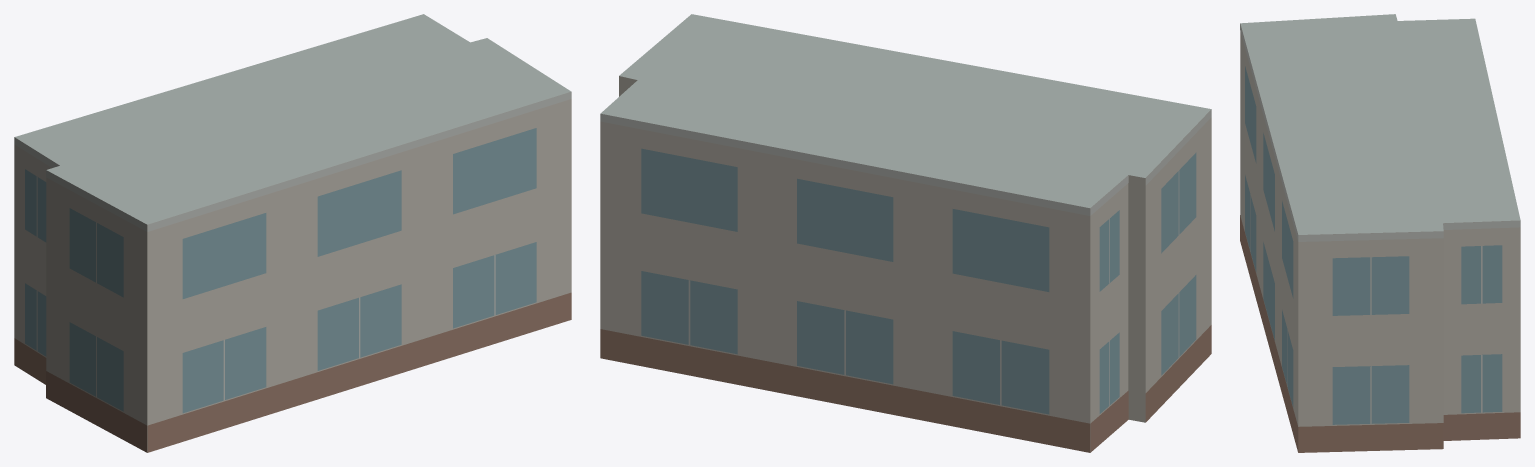
The model's file is survey-upis-32748769.glb.
3 renders of one model, left to right at view 1: azimuth 30°, elevation 25°; view 2: azimuth 150°, elevation 25°; view 3: azimuth 270°, elevation 25°, orthographic. The views are drawn at different scales.
Visible parts, largest first — view 1: survey-upis-32748769.tmp; view 2: survey-upis-32748769.tmp; view 3: survey-upis-32748769.tmp.
Boxes of the visible parts, x1,y1,x2,y2 form: survey-upis-32748769.tmp: (14,14,571,452); survey-upis-32748769.tmp: (600,14,1211,452); survey-upis-32748769.tmp: (1240,14,1520,452).
Bounding box in the file's own units: 16.55 × 7.6 × 8.88.
